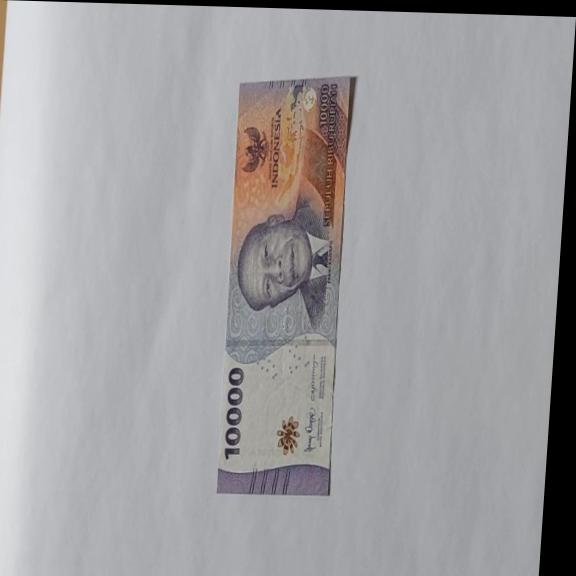Kertas: (212, 73, 358, 497)
